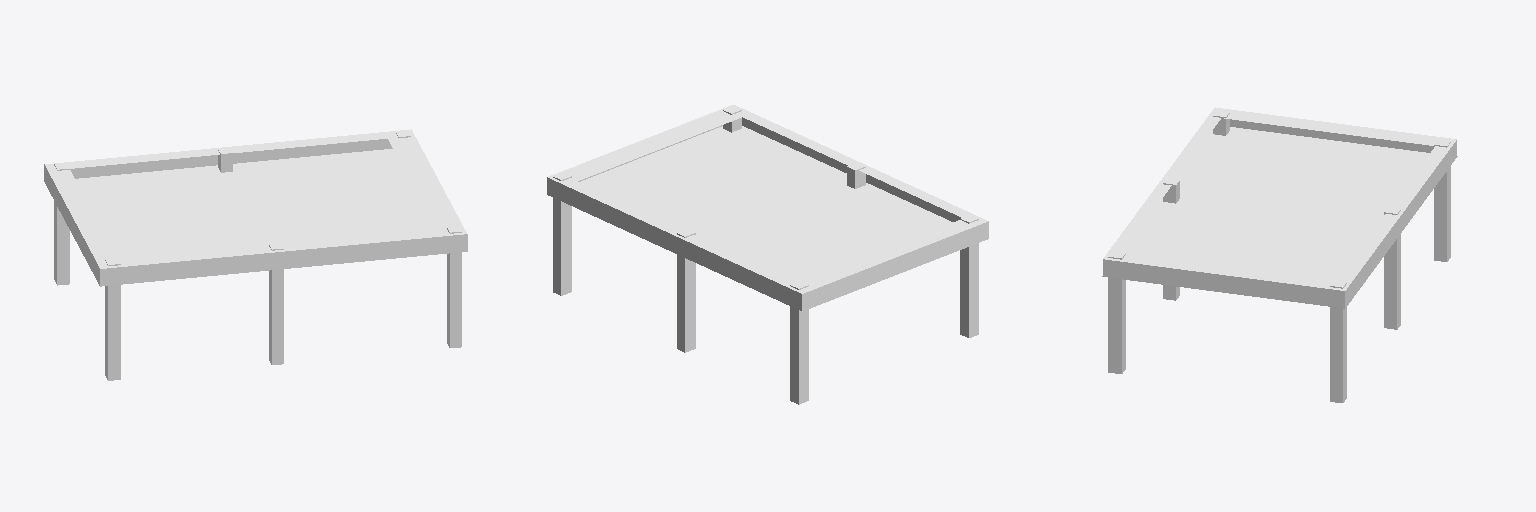
Rendered from HutBase.obj.
The picture shows the model from 3 angles: view 1: azimuth 30°, elevation 25°; view 2: azimuth 150°, elevation 25°; view 3: azimuth 270°, elevation 25°; orthographic projection.
Visible parts, largest first — view 1: house.001_house.003; view 2: house.001_house.003; view 3: house.001_house.003.
Part boxes in pixels (bbox=[...]): house.001_house.003: bbox=[44, 129, 467, 380]; house.001_house.003: bbox=[547, 105, 988, 404]; house.001_house.003: bbox=[1102, 107, 1457, 402].
Bounding box in the file's own units: 35.47 × 10.41 × 28.91.